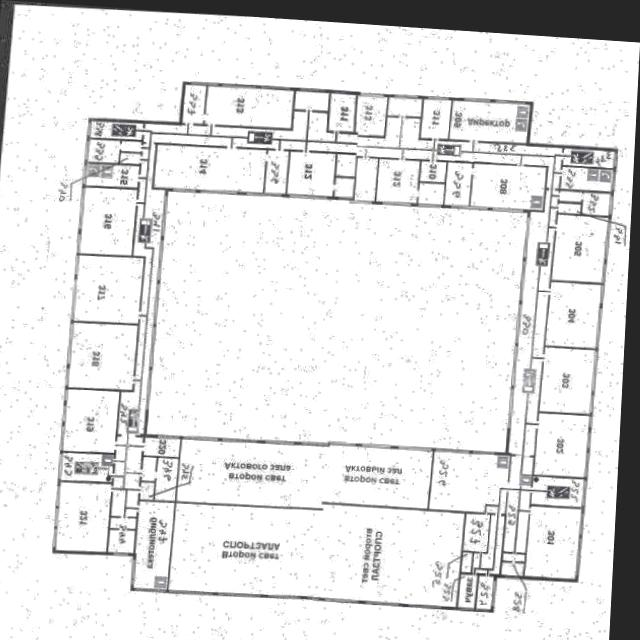room: (115, 101, 558, 457), (167, 501, 462, 605), (176, 437, 429, 510), (149, 143, 261, 192), (427, 450, 507, 514), (69, 253, 140, 322), (64, 322, 134, 389), (521, 505, 581, 581), (52, 480, 110, 554), (74, 184, 133, 255), (536, 346, 592, 415), (530, 412, 586, 479), (542, 280, 597, 348), (131, 499, 173, 588), (199, 84, 288, 125), (549, 214, 602, 282), (61, 387, 116, 452), (466, 163, 541, 210), (444, 100, 523, 142), (501, 455, 530, 552), (108, 435, 141, 516), (282, 151, 332, 195), (371, 157, 414, 204), (471, 514, 502, 574), (529, 477, 581, 507), (58, 451, 111, 480), (349, 94, 382, 137), (83, 137, 137, 163), (439, 160, 468, 206), (415, 97, 446, 139), (556, 167, 607, 191), (80, 164, 134, 186), (322, 92, 351, 131), (152, 456, 176, 500), (260, 149, 284, 192), (349, 157, 373, 200), (461, 513, 487, 552), (558, 148, 609, 167), (84, 119, 137, 137), (178, 83, 200, 122), (141, 436, 178, 456), (456, 574, 476, 609), (290, 89, 323, 110), (413, 182, 440, 205), (414, 160, 442, 182), (577, 192, 605, 214), (383, 97, 417, 115), (107, 528, 132, 551), (475, 575, 491, 608), (139, 455, 154, 480), (108, 516, 135, 528), (138, 480, 153, 499), (554, 190, 577, 202), (500, 562, 521, 575), (554, 203, 577, 213), (459, 552, 470, 572), (501, 553, 523, 561)
